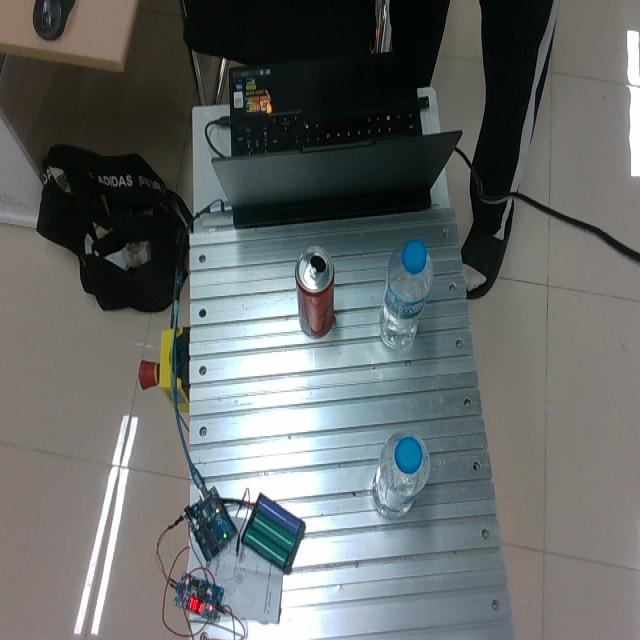coca: (294, 244, 335, 339)
lavie: (377, 238, 434, 350), (370, 430, 430, 518)
